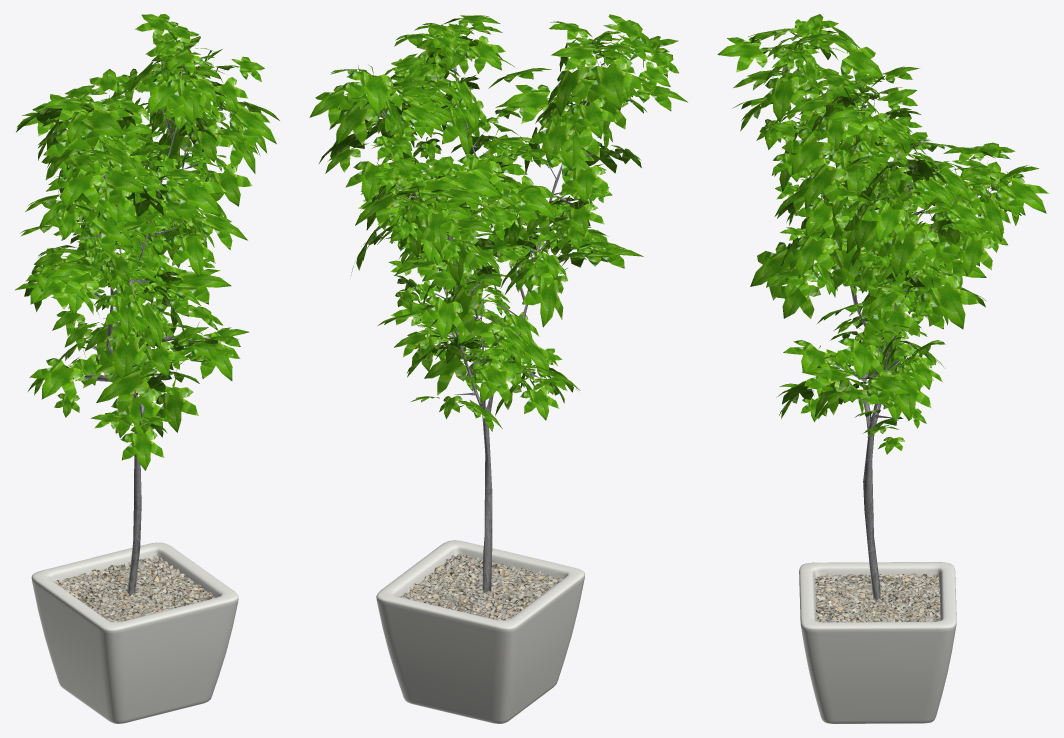
The model's file is Plant_1.fbx.
3 renders of one model, left to right at view 1: azimuth 30°, elevation 25°; view 2: azimuth 150°, elevation 25°; view 3: azimuth 270°, elevation 25°, orthographic. The views are drawn at different scales.
Visible parts, largest first — view 1: Plant_1; view 2: Plant_1; view 3: Plant_1.
Part boxes in pixels (x1,y1,x2,y2): Plant_1: (15, 14, 279, 723); Plant_1: (309, 14, 687, 723); Plant_1: (717, 14, 1049, 723).
Size of the model in its own units: 0.7993 by 1.76 by 0.8217.
